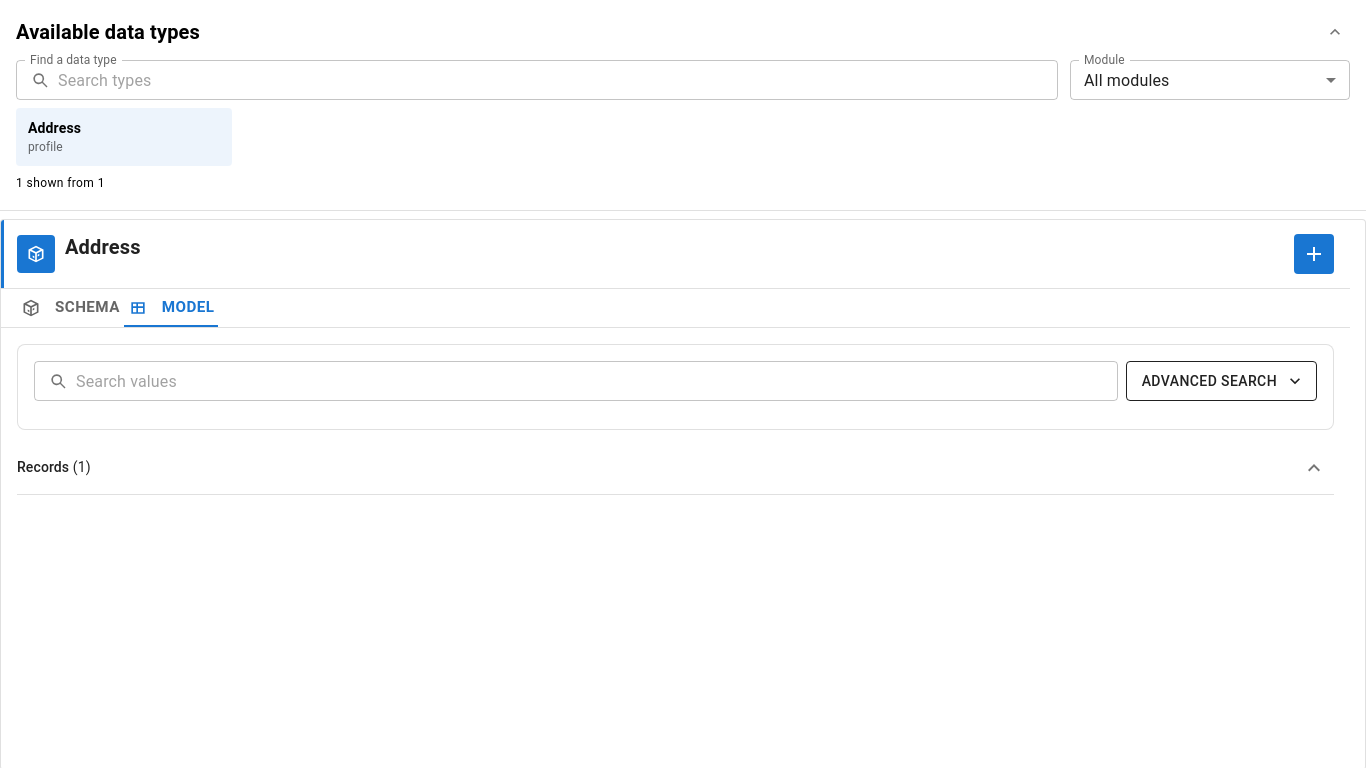
Test case: SchemaWorkbenchRenderer › collapses and restores the horizontal data type browser without losing its search
Expected: the heading "Available data types" is shown, [16, 16, 200, 48]
Type "Address" into the field labelled "Find a data type" at (558, 80), box [58, 60, 1058, 100]
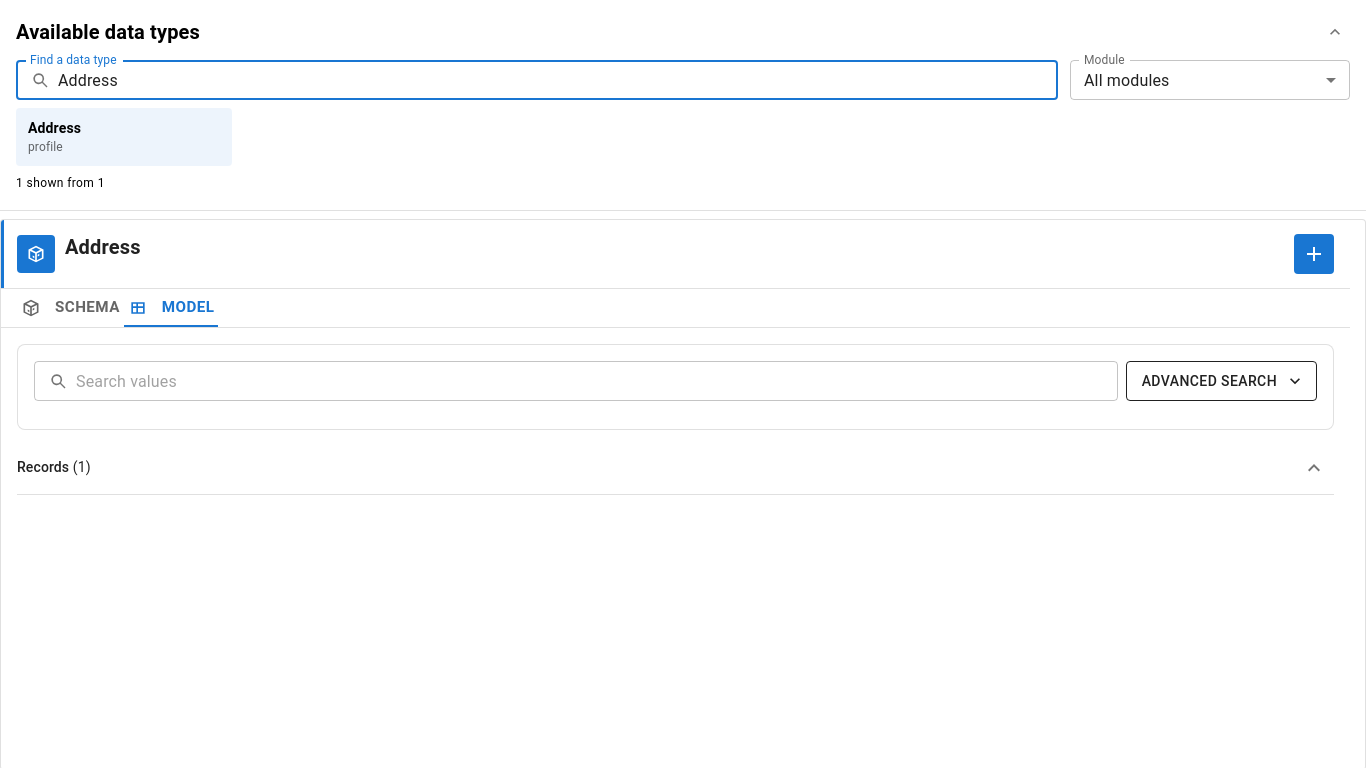
Click the button named "Hide data types" at (1335, 32), box [1320, 17, 1350, 47]
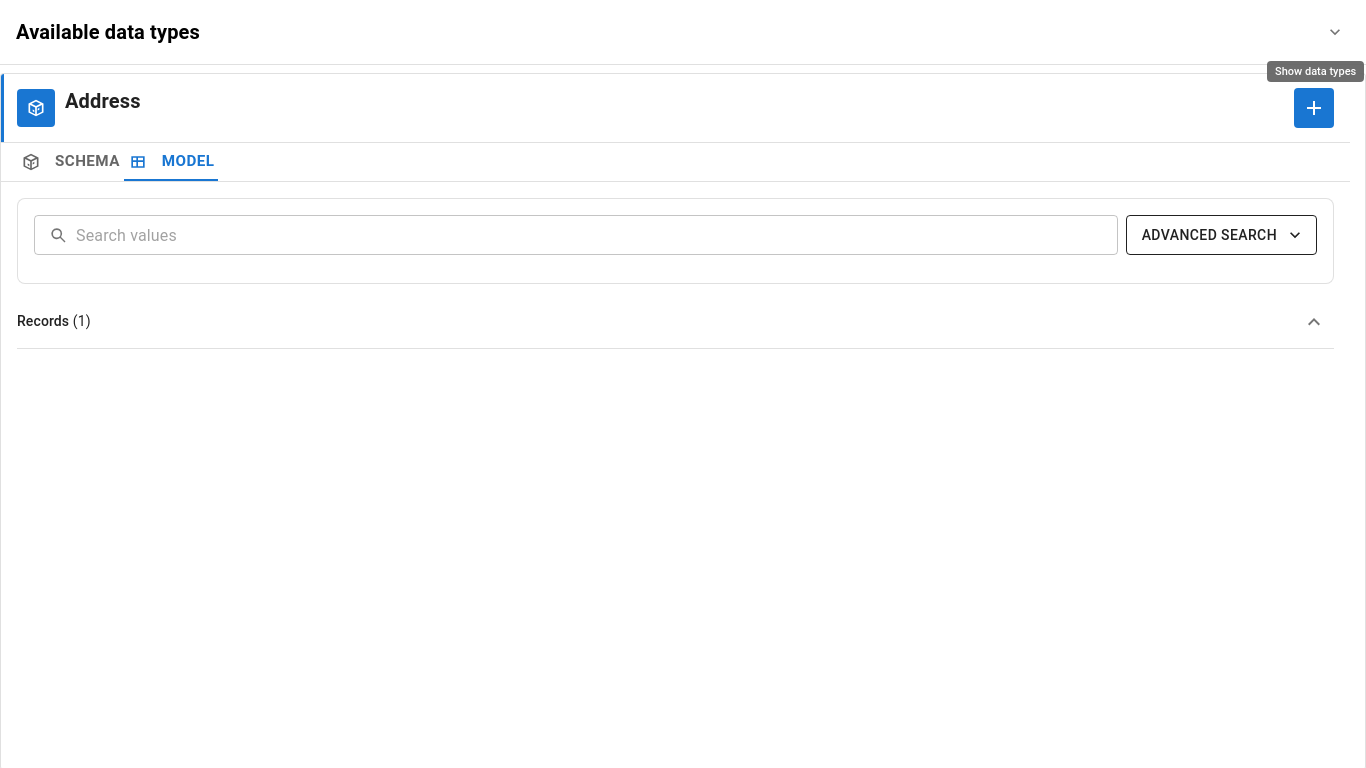
Expected: the heading "Available data types" is shown, [16, 16, 200, 48]
Expected: the label "Find a data type" is gone
Expected: the button named "Show data types" is collapsed
Click the button named "Show data types" at (1335, 32), box [1320, 17, 1350, 47]
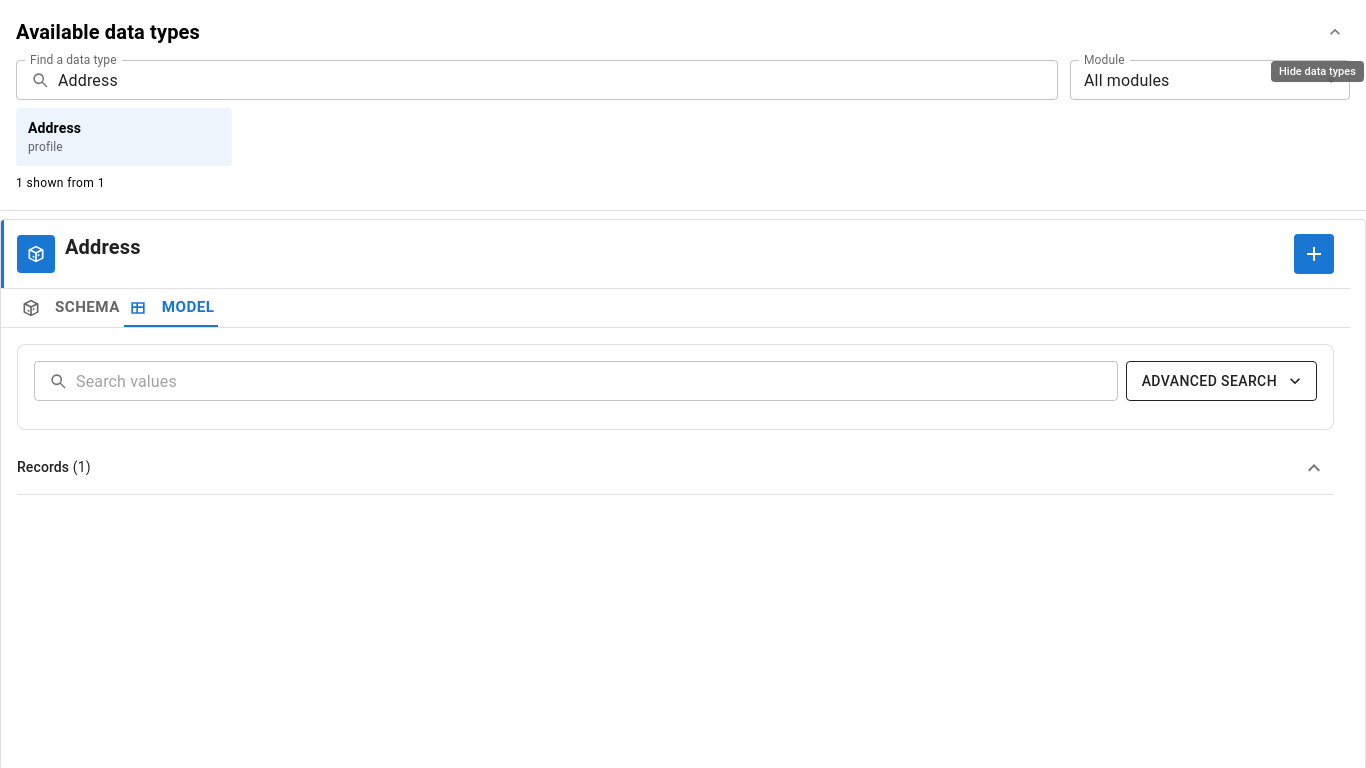
Expected: the heading "Available data types" is shown, [16, 16, 200, 48]
Expected: the field labelled "Find a data type" holds "Address", [58, 60, 1058, 100]
Expected: the button named "Hide data types" is expanded, [1320, 17, 1350, 47]
